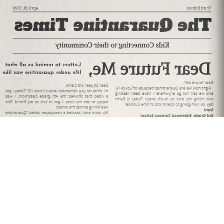news_paper: (0, 0, 224, 118)
